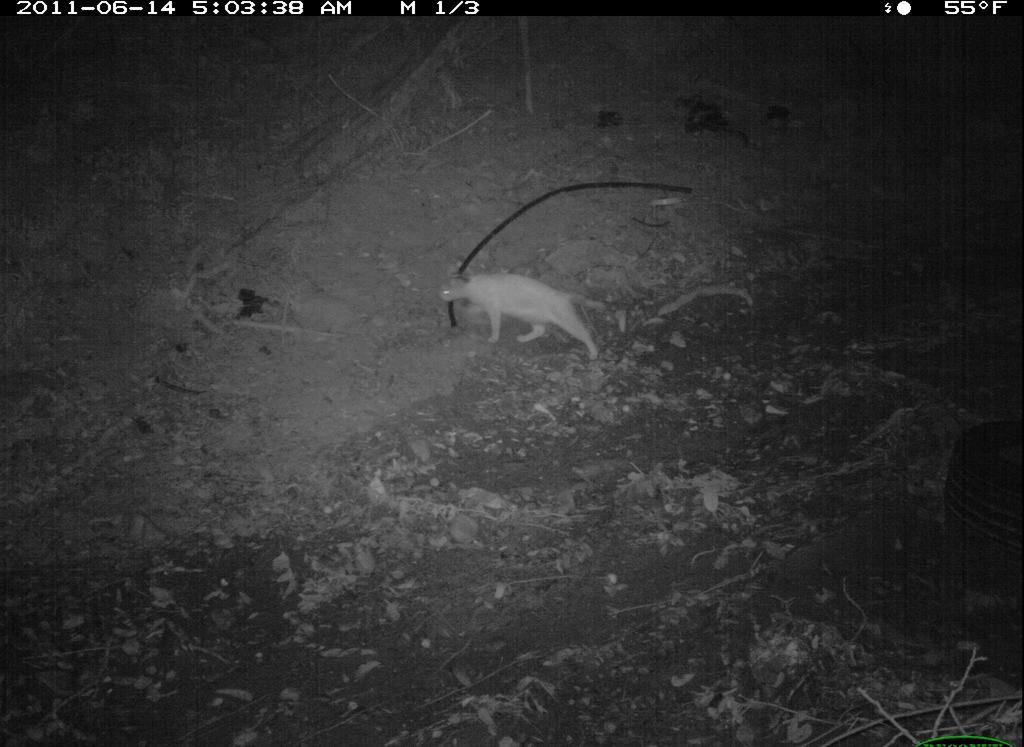cat: (419, 238, 634, 397)
